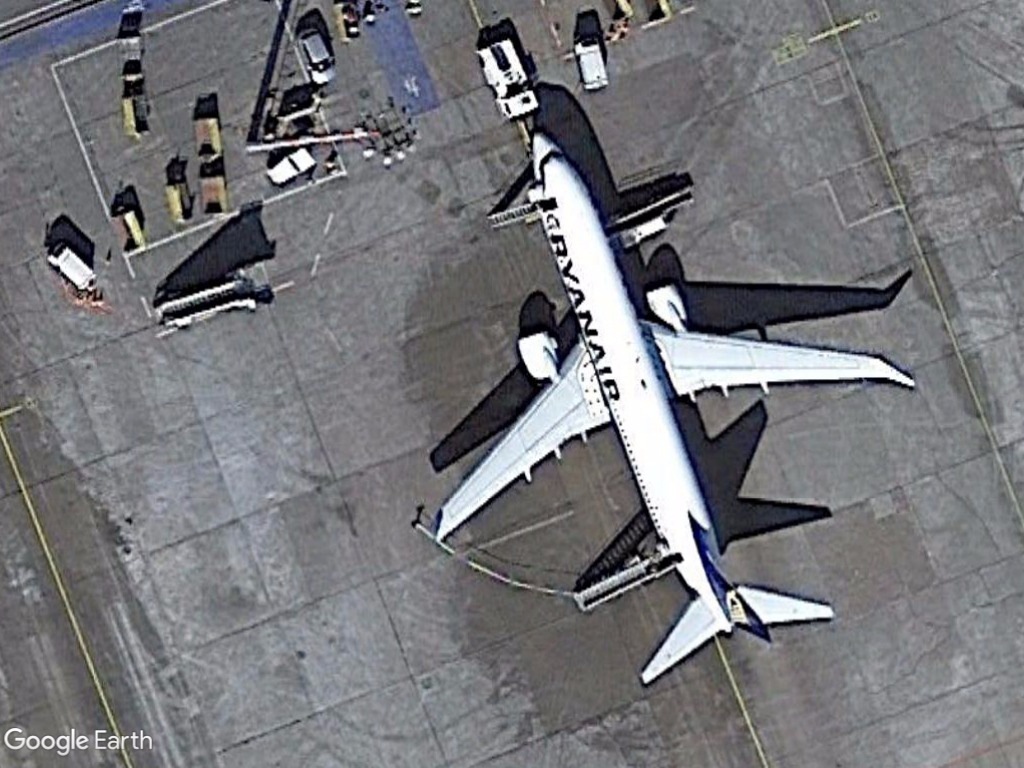airliner: (431, 127, 921, 688)
car: (290, 23, 341, 90)
pushbacktruck: (469, 31, 544, 125)
stairtruck: (152, 262, 273, 333)
